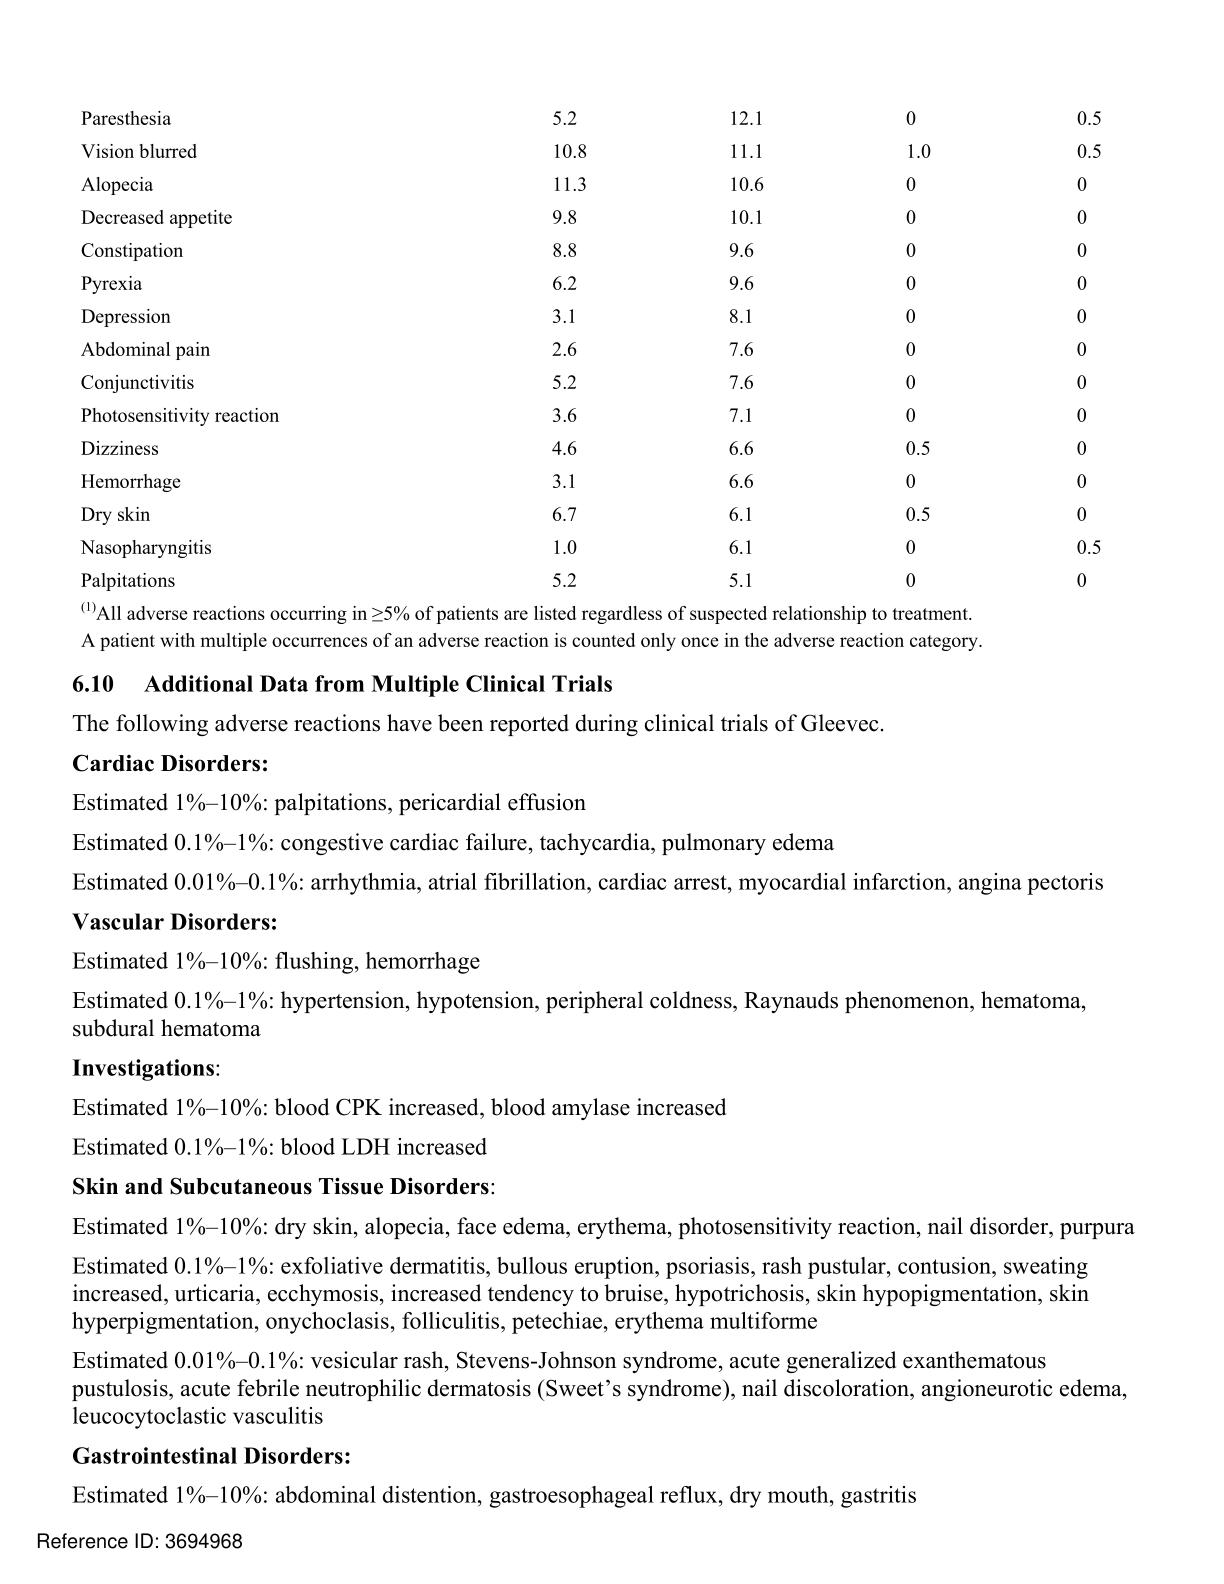nolines: (78, 108, 1108, 593)
